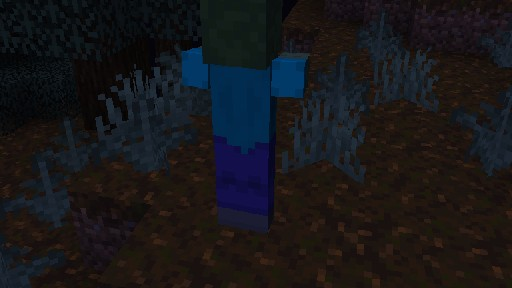zombie: (180, 0, 310, 234)
